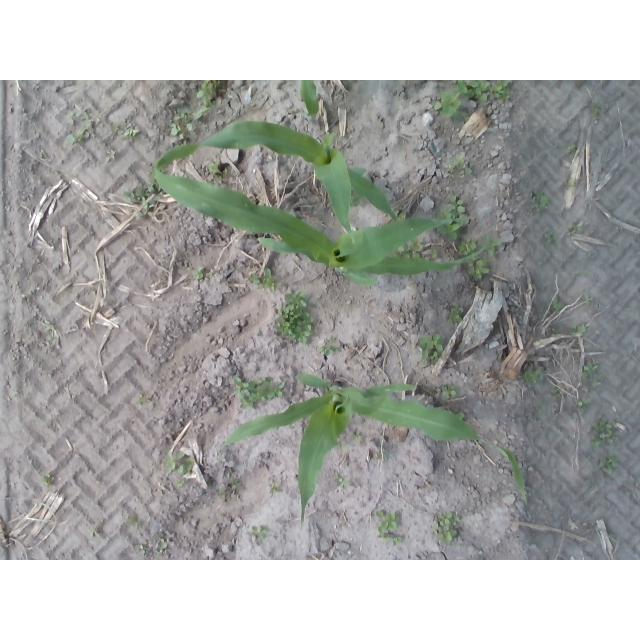Maize: (224, 374, 528, 527), (157, 168, 487, 288), (157, 120, 399, 240), (300, 80, 321, 121)
Weeds: (276, 292, 312, 344), (234, 376, 284, 408), (125, 180, 156, 220), (455, 80, 490, 101), (592, 420, 618, 446), (376, 511, 399, 537), (441, 91, 461, 118), (468, 259, 488, 281), (166, 451, 185, 474), (490, 80, 510, 100), (198, 83, 214, 107), (437, 513, 460, 529), (446, 195, 466, 213), (319, 339, 338, 357), (248, 525, 267, 543), (523, 366, 541, 384), (262, 269, 278, 289), (437, 529, 457, 545), (599, 457, 618, 473), (418, 334, 430, 358), (67, 132, 90, 144), (459, 241, 477, 256), (489, 238, 503, 257), (449, 306, 464, 323), (444, 224, 461, 239), (429, 334, 443, 352), (178, 459, 194, 474), (83, 109, 93, 133), (207, 159, 221, 176), (174, 107, 192, 120), (67, 110, 81, 126), (571, 324, 587, 337), (583, 362, 597, 376), (441, 386, 455, 400), (126, 513, 139, 527), (413, 240, 424, 256), (552, 297, 564, 311), (335, 475, 347, 489), (125, 129, 139, 140), (539, 195, 550, 209), (192, 266, 204, 278), (162, 538, 175, 549), (195, 108, 209, 118), (171, 123, 182, 135), (439, 211, 457, 218), (250, 274, 261, 285), (351, 431, 362, 442), (270, 482, 279, 495), (106, 150, 115, 163), (452, 158, 465, 167), (233, 479, 243, 490), (545, 232, 554, 244), (569, 226, 581, 235), (579, 398, 589, 408), (392, 536, 402, 546), (565, 143, 575, 153), (42, 475, 51, 485), (430, 249, 439, 259), (430, 352, 439, 361), (434, 102, 443, 111), (116, 126, 125, 134), (464, 166, 473, 174), (140, 545, 147, 555), (585, 295, 592, 305), (186, 123, 194, 131), (608, 533, 618, 539), (592, 381, 600, 388), (551, 388, 559, 395), (176, 481, 184, 488), (580, 270, 588, 277), (139, 396, 145, 404), (157, 549, 164, 555), (535, 192, 541, 199), (90, 532, 98, 537), (536, 407, 542, 413), (185, 263, 190, 269)
